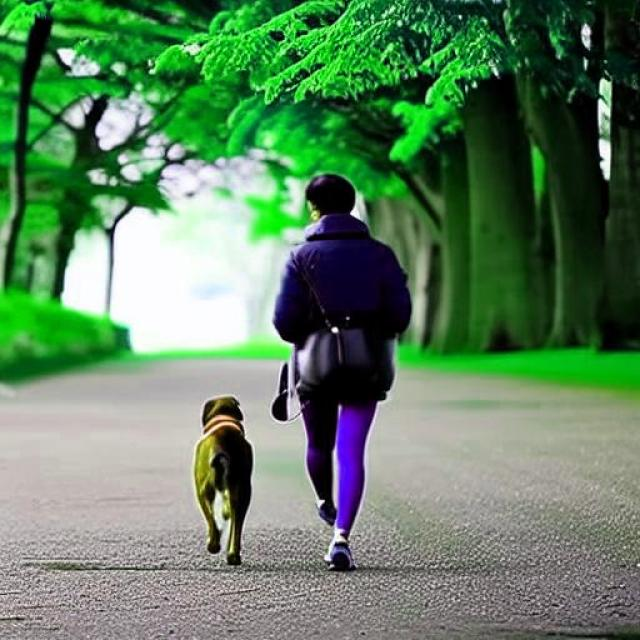Unleashed_Dog: (193, 346, 372, 566)
